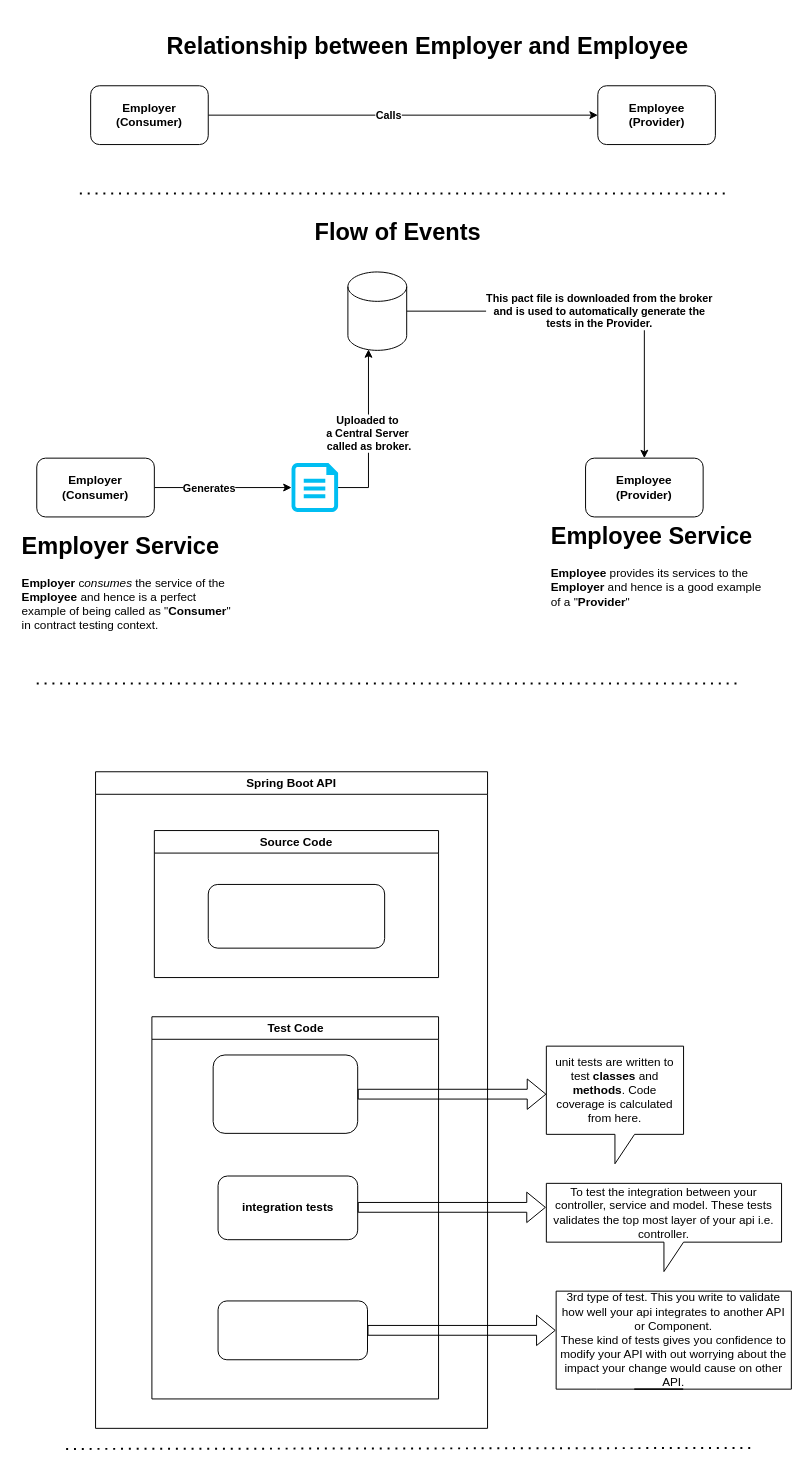
The diagram is 809 pixels wide and 1467 high, and some of its shapes have lost their labels. Here are the shapes that lost their labels. From the top down, the centre of each, then its label:
At (x=377, y=310): "Pact Flow (Broker)".
At (x=314, y=487): "Pact Json File".
At (x=296, y=915): "src/main/java".
At (x=285, y=1093): "unit tests".
At (x=292, y=1330): "Contract Tests".
